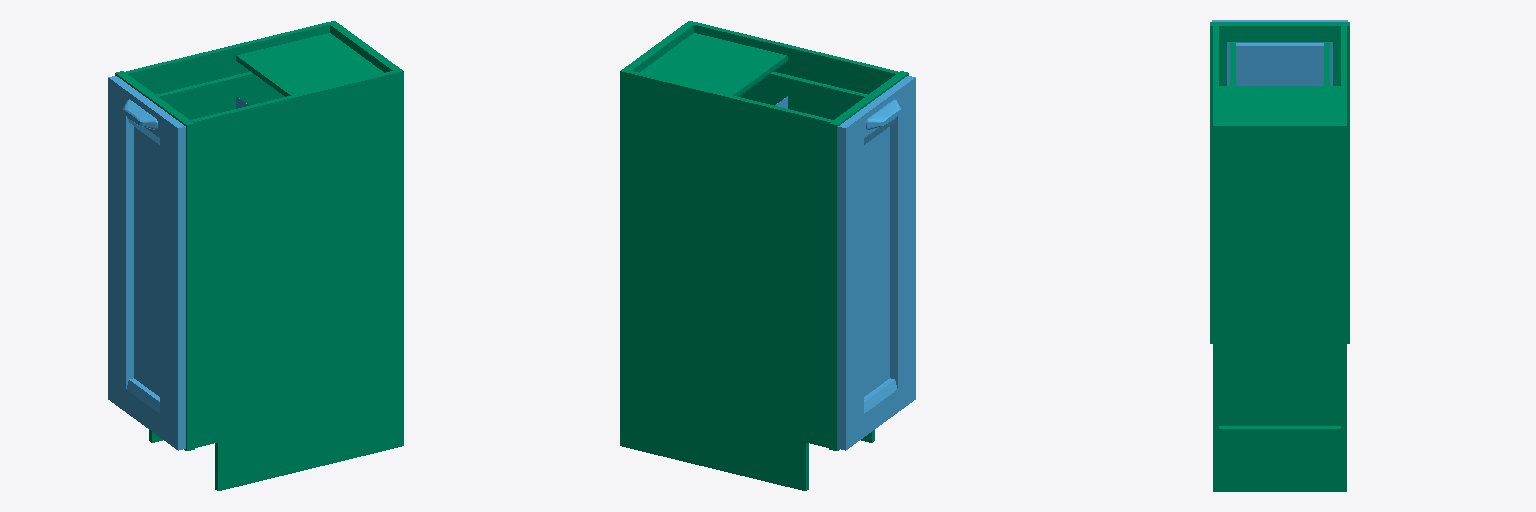
The robot description file, URDF, robot "partnet_2950d1baed4dbd78c59350d819542ec7":
<?xml version="1.0"?>
<robot name="partnet_2950d1baed4dbd78c59350d819542ec7">
  <link name="base"/>
  <link name="link_0">
    <visual name="shelf-13">
      <origin xyz="0.025651794994062324 -0.06920929151178112 -0.4723959863185885"/>
      <geometry>
        <mesh filename="textured_objs/original-23.stl"/>
      </geometry>
    </visual>
    <visual name="shelf-14">
      <origin xyz="0.025651794994062324 -0.06920929151178112 -0.4723959863185885"/>
      <geometry>
        <mesh filename="textured_objs/original-34.stl"/>
      </geometry>
    </visual>
    <visual name="shelf-15">
      <origin xyz="0.025651794994062324 -0.06920929151178112 -0.4723959863185885"/>
      <geometry>
        <mesh filename="textured_objs/original-38.stl"/>
      </geometry>
    </visual>
    <visual name="cabinet_door_surface-9">
      <origin xyz="0.025651794994062324 -0.06920929151178112 -0.4723959863185885"/>
      <geometry>
        <mesh filename="textured_objs/original-29.stl"/>
      </geometry>
    </visual>
    <visual name="cabinet_door_surface-9">
      <origin xyz="0.025651794994062324 -0.06920929151178112 -0.4723959863185885"/>
      <geometry>
        <mesh filename="textured_objs/original-45.stl"/>
      </geometry>
    </visual>
    <visual name="cabinet_door_surface-9">
      <origin xyz="0.025651794994062324 -0.06920929151178112 -0.4723959863185885"/>
      <geometry>
        <mesh filename="textured_objs/original-42.stl"/>
      </geometry>
    </visual>
    <visual name="cabinet_door_surface-9">
      <origin xyz="0.025651794994062324 -0.06920929151178112 -0.4723959863185885"/>
      <geometry>
        <mesh filename="textured_objs/original-43.stl"/>
      </geometry>
    </visual>
    <visual name="cabinet_door_surface-9">
      <origin xyz="0.025651794994062324 -0.06920929151178112 -0.4723959863185885"/>
      <geometry>
        <mesh filename="textured_objs/original-48.stl"/>
      </geometry>
    </visual>
    <visual name="cabinet_door_surface-9">
      <origin xyz="0.025651794994062324 -0.06920929151178112 -0.4723959863185885"/>
      <geometry>
        <mesh filename="textured_objs/original-44.stl"/>
      </geometry>
    </visual>
    <visual name="cabinet_door_surface-9">
      <origin xyz="0.025651794994062324 -0.06920929151178112 -0.4723959863185885"/>
      <geometry>
        <mesh filename="textured_objs/original-47.stl"/>
      </geometry>
    </visual>
    <visual name="handle-10">
      <origin xyz="0.025651794994062324 -0.06920929151178112 -0.4723959863185885"/>
      <geometry>
        <mesh filename="textured_objs/original-49.stl"/>
      </geometry>
    </visual>
    <collision>
      <origin xyz="0.025651794994062324 -0.06920929151178112 -0.4723959863185885"/>
      <geometry>
        <mesh filename="textured_objs/original-23.stl"/>
      </geometry>
    </collision>
    <collision>
      <origin xyz="0.025651794994062324 -0.06920929151178112 -0.4723959863185885"/>
      <geometry>
        <mesh filename="textured_objs/original-34.stl"/>
      </geometry>
    </collision>
    <collision>
      <origin xyz="0.025651794994062324 -0.06920929151178112 -0.4723959863185885"/>
      <geometry>
        <mesh filename="textured_objs/original-38.stl"/>
      </geometry>
    </collision>
    <collision>
      <origin xyz="0.025651794994062324 -0.06920929151178112 -0.4723959863185885"/>
      <geometry>
        <mesh filename="textured_objs/original-29.stl"/>
      </geometry>
    </collision>
    <collision>
      <origin xyz="0.025651794994062324 -0.06920929151178112 -0.4723959863185885"/>
      <geometry>
        <mesh filename="textured_objs/original-45.stl"/>
      </geometry>
    </collision>
    <collision>
      <origin xyz="0.025651794994062324 -0.06920929151178112 -0.4723959863185885"/>
      <geometry>
        <mesh filename="textured_objs/original-42.stl"/>
      </geometry>
    </collision>
    <collision>
      <origin xyz="0.025651794994062324 -0.06920929151178112 -0.4723959863185885"/>
      <geometry>
        <mesh filename="textured_objs/original-43.stl"/>
      </geometry>
    </collision>
    <collision>
      <origin xyz="0.025651794994062324 -0.06920929151178112 -0.4723959863185885"/>
      <geometry>
        <mesh filename="textured_objs/original-48.stl"/>
      </geometry>
    </collision>
    <collision>
      <origin xyz="0.025651794994062324 -0.06920929151178112 -0.4723959863185885"/>
      <geometry>
        <mesh filename="textured_objs/original-44.stl"/>
      </geometry>
    </collision>
    <collision>
      <origin xyz="0.025651794994062324 -0.06920929151178112 -0.4723959863185885"/>
      <geometry>
        <mesh filename="textured_objs/original-47.stl"/>
      </geometry>
    </collision>
    <collision>
      <origin xyz="0.025651794994062324 -0.06920929151178112 -0.4723959863185885"/>
      <geometry>
        <mesh filename="textured_objs/original-49.stl"/>
      </geometry>
    </collision>
  </link>
  <joint name="joint_0" type="prismatic">
    <origin xyz="-0.025651794994062324 0.06920929151178112 0.4723959863185885"/>
    <axis xyz="0 0 1"/>
    <child link="link_0"/>
    <parent link="link_1"/>
    <limit lower="0" upper="0.7240000000000002"/>
  </joint>
  <link name="link_1">
    <visual name="vertical_side_panel-16">
      <origin xyz="0 0 0"/>
      <geometry>
        <mesh filename="textured_objs/original-15.stl"/>
      </geometry>
    </visual>
    <visual name="vertical_side_panel-16">
      <origin xyz="0 0 0"/>
      <geometry>
        <mesh filename="textured_objs/original-14.stl"/>
      </geometry>
    </visual>
    <visual name="vertical_side_panel-17">
      <origin xyz="0 0 0"/>
      <geometry>
        <mesh filename="textured_objs/original-11.stl"/>
      </geometry>
    </visual>
    <visual name="vertical_side_panel-17">
      <origin xyz="0 0 0"/>
      <geometry>
        <mesh filename="textured_objs/original-10.stl"/>
      </geometry>
    </visual>
    <visual name="back_panel-18">
      <origin xyz="0 0 0"/>
      <geometry>
        <mesh filename="textured_objs/original-30.stl"/>
      </geometry>
    </visual>
    <visual name="back_panel-18">
      <origin xyz="0 0 0"/>
      <geometry>
        <mesh filename="textured_objs/original-50.stl"/>
      </geometry>
    </visual>
    <visual name="back_panel-18">
      <origin xyz="0 0 0"/>
      <geometry>
        <mesh filename="textured_objs/original-5.stl"/>
      </geometry>
    </visual>
    <visual name="bottom_panel-19">
      <origin xyz="0 0 0"/>
      <geometry>
        <mesh filename="textured_objs/original-2.stl"/>
      </geometry>
    </visual>
    <visual name="top_panel-20">
      <origin xyz="0 0 0"/>
      <geometry>
        <mesh filename="textured_objs/original-19.stl"/>
      </geometry>
    </visual>
    <visual name="frame_vertical_bar-26">
      <origin xyz="0 0 0"/>
      <geometry>
        <mesh filename="textured_objs/original-7.stl"/>
      </geometry>
    </visual>
    <visual name="frame_vertical_bar-27">
      <origin xyz="0 0 0"/>
      <geometry>
        <mesh filename="textured_objs/original-26.stl"/>
      </geometry>
    </visual>
    <visual name="frame_vertical_bar-28">
      <origin xyz="0 0 0"/>
      <geometry>
        <mesh filename="textured_objs/original-25.stl"/>
      </geometry>
    </visual>
    <visual name="frame_vertical_bar-29">
      <origin xyz="0 0 0"/>
      <geometry>
        <mesh filename="textured_objs/original-24.stl"/>
      </geometry>
    </visual>
    <visual name="frame_vertical_bar-30">
      <origin xyz="0 0 0"/>
      <geometry>
        <mesh filename="textured_objs/original-3.stl"/>
      </geometry>
    </visual>
    <visual name="frame_vertical_bar-31">
      <origin xyz="0 0 0"/>
      <geometry>
        <mesh filename="textured_objs/original-27.stl"/>
      </geometry>
    </visual>
    <visual name="frame_horizontal_bar-32">
      <origin xyz="0 0 0"/>
      <geometry>
        <mesh filename="textured_objs/original-8.stl"/>
      </geometry>
    </visual>
    <visual name="frame_horizontal_bar-33">
      <origin xyz="0 0 0"/>
      <geometry>
        <mesh filename="textured_objs/original-6.stl"/>
      </geometry>
    </visual>
    <visual name="frame_horizontal_bar-34">
      <origin xyz="0 0 0"/>
      <geometry>
        <mesh filename="textured_objs/original-28.stl"/>
      </geometry>
    </visual>
    <visual name="frame_horizontal_bar-35">
      <origin xyz="0 0 0"/>
      <geometry>
        <mesh filename="textured_objs/original-32.stl"/>
      </geometry>
    </visual>
    <visual name="frame_horizontal_bar-36">
      <origin xyz="0 0 0"/>
      <geometry>
        <mesh filename="textured_objs/original-36.stl"/>
      </geometry>
    </visual>
    <visual name="frame_horizontal_bar-37">
      <origin xyz="0 0 0"/>
      <geometry>
        <mesh filename="textured_objs/original-22.stl"/>
      </geometry>
    </visual>
    <visual name="frame_horizontal_bar-38">
      <origin xyz="0 0 0"/>
      <geometry>
        <mesh filename="textured_objs/original-4.stl"/>
      </geometry>
    </visual>
    <visual name="frame_horizontal_bar-39">
      <origin xyz="0 0 0"/>
      <geometry>
        <mesh filename="textured_objs/original-39.stl"/>
      </geometry>
    </visual>
    <visual name="frame_horizontal_bar-40">
      <origin xyz="0 0 0"/>
      <geometry>
        <mesh filename="textured_objs/original-33.stl"/>
      </geometry>
    </visual>
    <visual name="frame_horizontal_bar-41">
      <origin xyz="0 0 0"/>
      <geometry>
        <mesh filename="textured_objs/original-37.stl"/>
      </geometry>
    </visual>
    <visual name="frame_horizontal_bar-42">
      <origin xyz="0 0 0"/>
      <geometry>
        <mesh filename="textured_objs/original-40.stl"/>
      </geometry>
    </visual>
    <visual name="base_side_panel-22">
      <origin xyz="0 0 0"/>
      <geometry>
        <mesh filename="textured_objs/original-18.stl"/>
      </geometry>
    </visual>
    <visual name="base_side_panel-23">
      <origin xyz="0 0 0"/>
      <geometry>
        <mesh filename="textured_objs/original-16.stl"/>
      </geometry>
    </visual>
    <visual name="base_side_panel-24">
      <origin xyz="0 0 0"/>
      <geometry>
        <mesh filename="textured_objs/original-17.stl"/>
      </geometry>
    </visual>
    <visual name="base_side_panel-25">
      <origin xyz="0 0 0"/>
      <geometry>
        <mesh filename="textured_objs/original-12.stl"/>
      </geometry>
    </visual>
    <collision>
      <origin xyz="0 0 0"/>
      <geometry>
        <mesh filename="textured_objs/original-15.stl"/>
      </geometry>
    </collision>
    <collision>
      <origin xyz="0 0 0"/>
      <geometry>
        <mesh filename="textured_objs/original-14.stl"/>
      </geometry>
    </collision>
    <collision>
      <origin xyz="0 0 0"/>
      <geometry>
        <mesh filename="textured_objs/original-11.stl"/>
      </geometry>
    </collision>
    <collision>
      <origin xyz="0 0 0"/>
      <geometry>
        <mesh filename="textured_objs/original-10.stl"/>
      </geometry>
    </collision>
    <collision>
      <origin xyz="0 0 0"/>
      <geometry>
        <mesh filename="textured_objs/original-30.stl"/>
      </geometry>
    </collision>
    <collision>
      <origin xyz="0 0 0"/>
      <geometry>
        <mesh filename="textured_objs/original-50.stl"/>
      </geometry>
    </collision>
    <collision>
      <origin xyz="0 0 0"/>
      <geometry>
        <mesh filename="textured_objs/original-5.stl"/>
      </geometry>
    </collision>
    <collision>
      <origin xyz="0 0 0"/>
      <geometry>
        <mesh filename="textured_objs/original-2.stl"/>
      </geometry>
    </collision>
    <collision>
      <origin xyz="0 0 0"/>
      <geometry>
        <mesh filename="textured_objs/original-19.stl"/>
      </geometry>
    </collision>
    <collision>
      <origin xyz="0 0 0"/>
      <geometry>
        <mesh filename="textured_objs/original-7.stl"/>
      </geometry>
    </collision>
    <collision>
      <origin xyz="0 0 0"/>
      <geometry>
        <mesh filename="textured_objs/original-26.stl"/>
      </geometry>
    </collision>
    <collision>
      <origin xyz="0 0 0"/>
      <geometry>
        <mesh filename="textured_objs/original-25.stl"/>
      </geometry>
    </collision>
    <collision>
      <origin xyz="0 0 0"/>
      <geometry>
        <mesh filename="textured_objs/original-24.stl"/>
      </geometry>
    </collision>
    <collision>
      <origin xyz="0 0 0"/>
      <geometry>
        <mesh filename="textured_objs/original-3.stl"/>
      </geometry>
    </collision>
    <collision>
      <origin xyz="0 0 0"/>
      <geometry>
        <mesh filename="textured_objs/original-27.stl"/>
      </geometry>
    </collision>
    <collision>
      <origin xyz="0 0 0"/>
      <geometry>
        <mesh filename="textured_objs/original-8.stl"/>
      </geometry>
    </collision>
    <collision>
      <origin xyz="0 0 0"/>
      <geometry>
        <mesh filename="textured_objs/original-6.stl"/>
      </geometry>
    </collision>
    <collision>
      <origin xyz="0 0 0"/>
      <geometry>
        <mesh filename="textured_objs/original-28.stl"/>
      </geometry>
    </collision>
    <collision>
      <origin xyz="0 0 0"/>
      <geometry>
        <mesh filename="textured_objs/original-32.stl"/>
      </geometry>
    </collision>
    <collision>
      <origin xyz="0 0 0"/>
      <geometry>
        <mesh filename="textured_objs/original-36.stl"/>
      </geometry>
    </collision>
    <collision>
      <origin xyz="0 0 0"/>
      <geometry>
        <mesh filename="textured_objs/original-22.stl"/>
      </geometry>
    </collision>
    <collision>
      <origin xyz="0 0 0"/>
      <geometry>
        <mesh filename="textured_objs/original-4.stl"/>
      </geometry>
    </collision>
    <collision>
      <origin xyz="0 0 0"/>
      <geometry>
        <mesh filename="textured_objs/original-39.stl"/>
      </geometry>
    </collision>
    <collision>
      <origin xyz="0 0 0"/>
      <geometry>
        <mesh filename="textured_objs/original-33.stl"/>
      </geometry>
    </collision>
    <collision>
      <origin xyz="0 0 0"/>
      <geometry>
        <mesh filename="textured_objs/original-37.stl"/>
      </geometry>
    </collision>
    <collision>
      <origin xyz="0 0 0"/>
      <geometry>
        <mesh filename="textured_objs/original-40.stl"/>
      </geometry>
    </collision>
    <collision>
      <origin xyz="0 0 0"/>
      <geometry>
        <mesh filename="textured_objs/original-18.stl"/>
      </geometry>
    </collision>
    <collision>
      <origin xyz="0 0 0"/>
      <geometry>
        <mesh filename="textured_objs/original-16.stl"/>
      </geometry>
    </collision>
    <collision>
      <origin xyz="0 0 0"/>
      <geometry>
        <mesh filename="textured_objs/original-17.stl"/>
      </geometry>
    </collision>
    <collision>
      <origin xyz="0 0 0"/>
      <geometry>
        <mesh filename="textured_objs/original-12.stl"/>
      </geometry>
    </collision>
  </link>
  <joint name="joint_1" type="fixed">
    <origin rpy="1.570796326794897 0 -1.570796326794897" xyz="0 0 0"/>
    <child link="link_1"/>
    <parent link="base"/>
  </joint>
  <mujoco>
    <compiler meshdir="textured_objs/" convexhull="true" balanceinertia="true"/>
  </mujoco>
</robot>

--- Facts derived from the render (not from the file) ---
The picture shows the robot from 3 angles, left to right: view 1: azimuth 30°, elevation 25°; view 2: azimuth 150°, elevation 25°; view 3: azimuth 270°, elevation 25°; orthographic projection.
Robot: partnet_2950d1baed4dbd78c59350d819542ec7 — 3 links, 2 joints (1 prismatic, 1 fixed); root link base; default pose: every joint at zero.
Links seen in each view (by area): view 1: link_1, link_0; view 2: link_1, link_0; view 3: link_1, link_0.
Link boxes in pixels (box(x1,y1,x2,y2)): link_1: box(115, 21, 403, 490); link_0: box(108, 76, 248, 450); link_1: box(620, 21, 908, 490); link_0: box(775, 76, 915, 450); link_1: box(1210, 22, 1349, 491); link_0: box(1212, 20, 1347, 85).
Size in the robot's own frame: 1.06 by 0.5533 by 1.59 metres.
Meshes: 41 distinct files referenced, 40 mesh visuals loaded (40 binary STL); not drawn: 1 (reference not matched to a file when rendering).